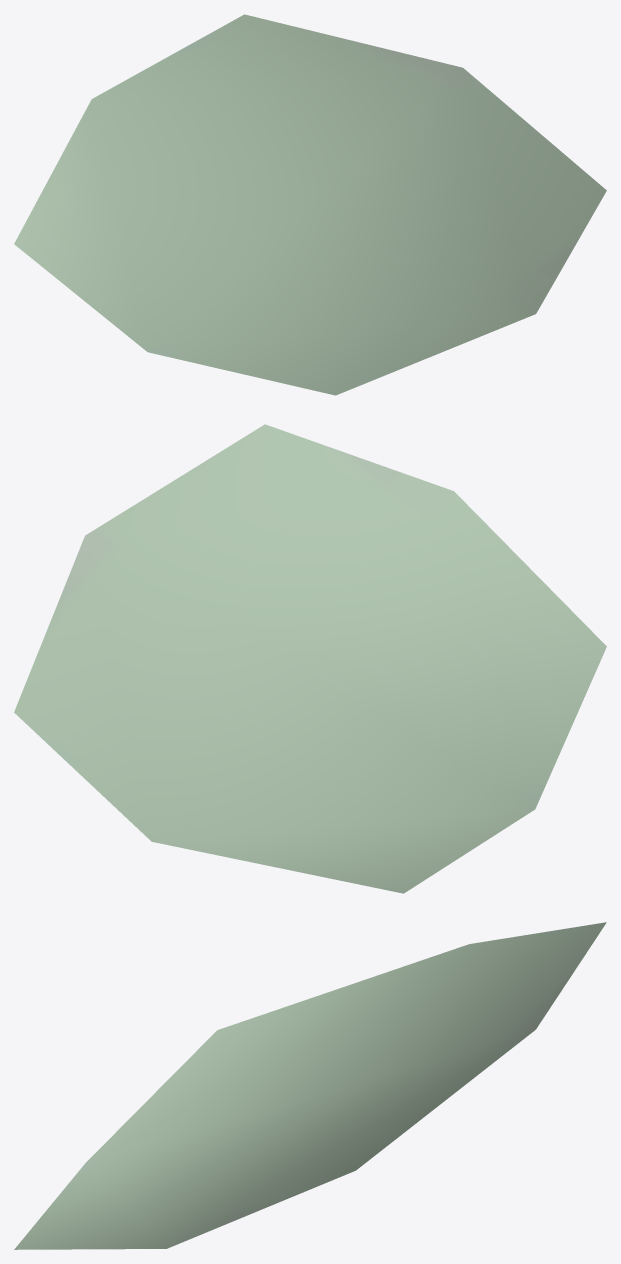
The model's file is TROLLHOLE02_HOLECAP88.fbx.
3 renders of one model, top to bottom at view 1: azimuth 30°, elevation 25°; view 2: azimuth 150°, elevation 25°; view 3: azimuth 330°, elevation 25°, orthographic. The views are drawn at different scales.
Visible parts, largest first — view 1: TROLLHOLE02_HOLECAP88; view 2: TROLLHOLE02_HOLECAP88; view 3: TROLLHOLE02_HOLECAP88.
Part boxes in pixels (<box>): TROLLHOLE02_HOLECAP88: <box>14,14,606,395</box>; TROLLHOLE02_HOLECAP88: <box>14,424,606,893</box>; TROLLHOLE02_HOLECAP88: <box>14,922,606,1249</box>.
Bounding box in the file's own units: 8112 × 3737 × 13690.
Materials: 1 (1 with a texture image).
